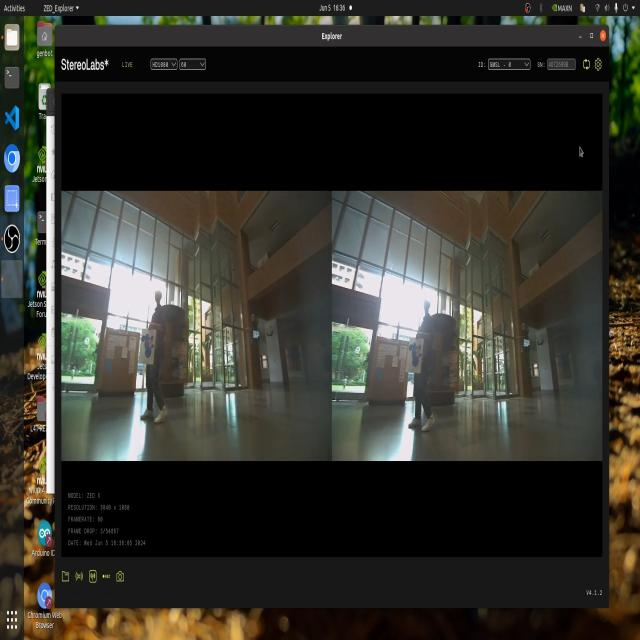blue: (136, 329, 156, 372), (409, 338, 427, 376)
